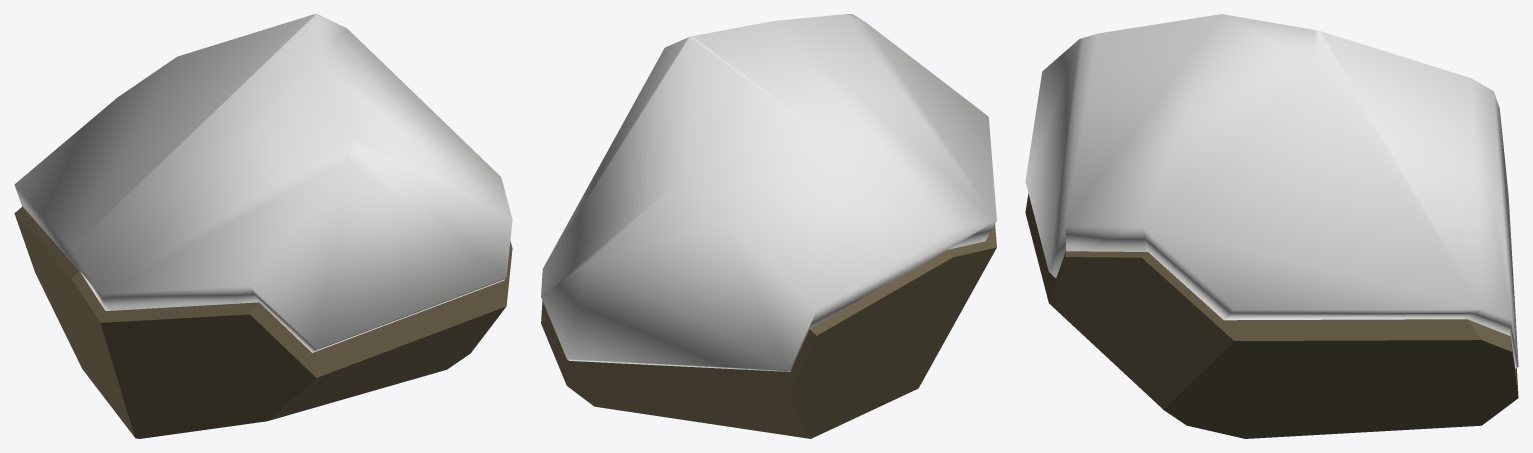
Rendered from WinterRockMedium.gltf.
3 renders of one model, left to right at view 1: azimuth 30°, elevation 25°; view 2: azimuth 150°, elevation 25°; view 3: azimuth 270°, elevation 25°, orthographic. The views are drawn at different scales.
Parts seen in each view (by area): view 1: snow.002, Rock_medium; view 2: snow.002, Rock_medium; view 3: snow.002, Rock_medium.
Part boxes in pixels (left/top/right/bottom): snow.002: left=14, top=14, right=512, bottom=352; Rock_medium: left=14, top=206, right=512, bottom=438; snow.002: left=541, top=14, right=996, bottom=371; Rock_medium: left=541, top=224, right=996, bottom=438; snow.002: left=1025, top=14, right=1518, bottom=368; Rock_medium: left=1025, top=193, right=1518, bottom=438.
Bounding box in the file's own units: 0.9273 × 0.7923 × 0.9321.
